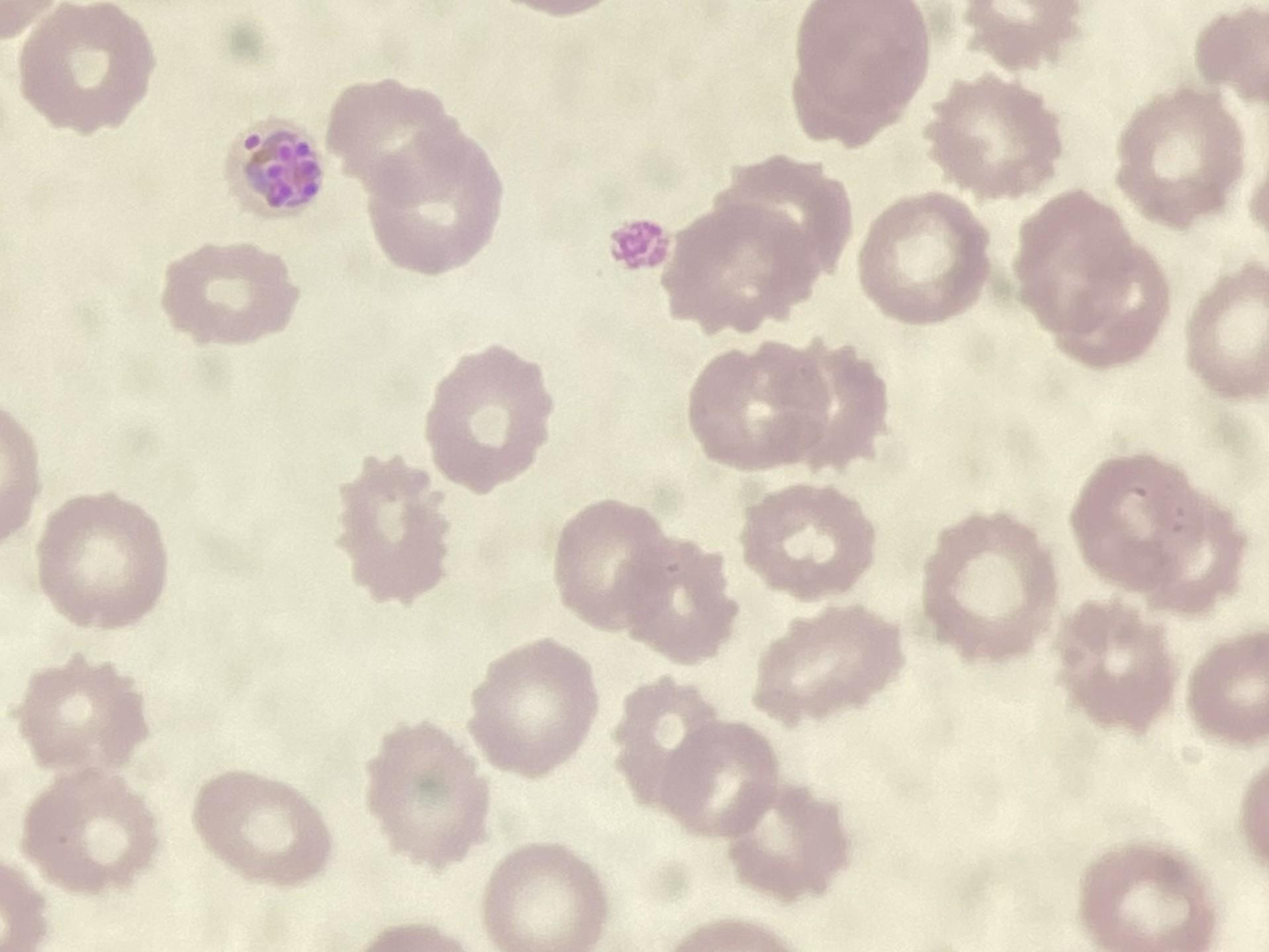Infected: (227, 119, 323, 214)
Uninfected: (326, 79, 502, 274), (659, 159, 852, 332), (555, 498, 737, 661), (1013, 189, 1168, 365), (1069, 453, 1240, 612), (687, 339, 878, 473), (616, 690, 779, 841), (919, 514, 1058, 659), (792, 2, 928, 146), (363, 721, 494, 867), (422, 347, 552, 491), (754, 605, 904, 726), (463, 642, 596, 777), (334, 453, 453, 601), (19, 3, 154, 133), (21, 767, 159, 893), (35, 494, 166, 626), (1115, 91, 1244, 225), (739, 485, 883, 602), (863, 199, 993, 328), (925, 76, 1061, 199), (15, 653, 149, 776), (193, 771, 332, 888), (1057, 600, 1179, 731), (161, 240, 297, 348), (1076, 843, 1215, 947), (724, 785, 848, 900), (483, 848, 602, 950), (1188, 626, 1267, 741)
